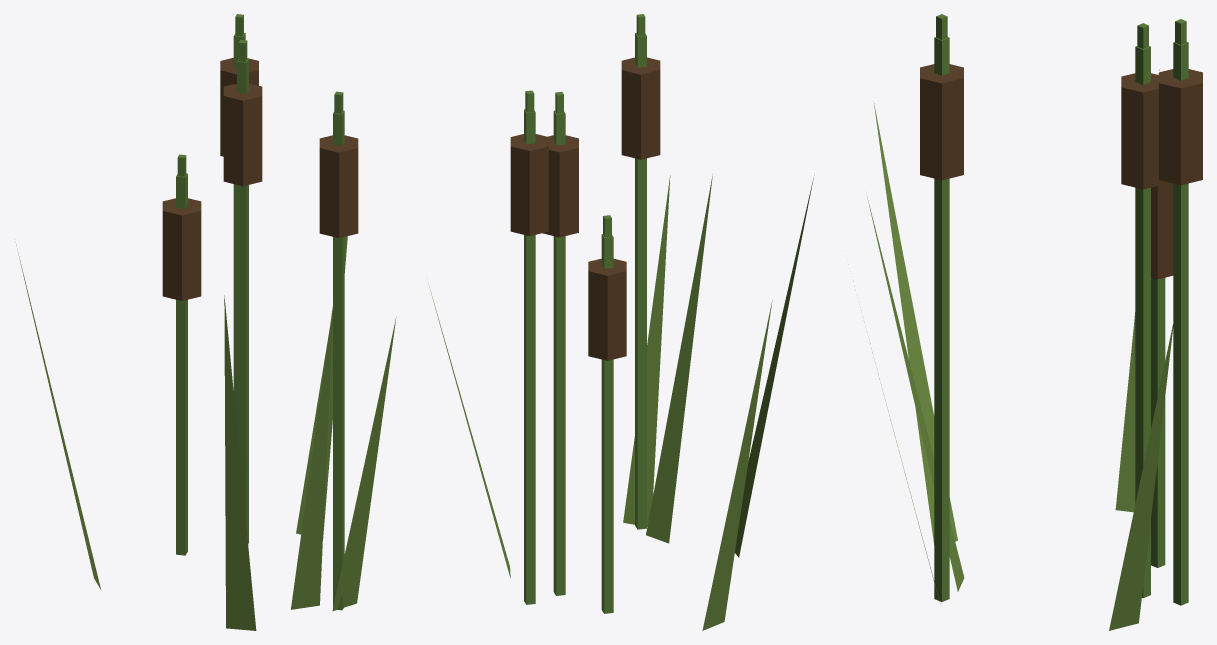
File: cattails-a.glb
3 views of the same model, side by side, from view 1: azimuth 30°, elevation 25°; view 2: azimuth 150°, elevation 25°; view 3: azimuth 270°, elevation 25° (orthographic). The views are drawn at different scales.
Visible parts, largest first — view 1: cattails-a; view 2: cattails-a; view 3: cattails-a.
Part boxes in pixels (<box>): cattails-a: <box>16,14,396,630</box>; cattails-a: <box>429,14,814,630</box>; cattails-a: <box>866,14,1202,630</box>.
Size of the model in its own units: 0.2307 by 0.3306 by 0.185.
